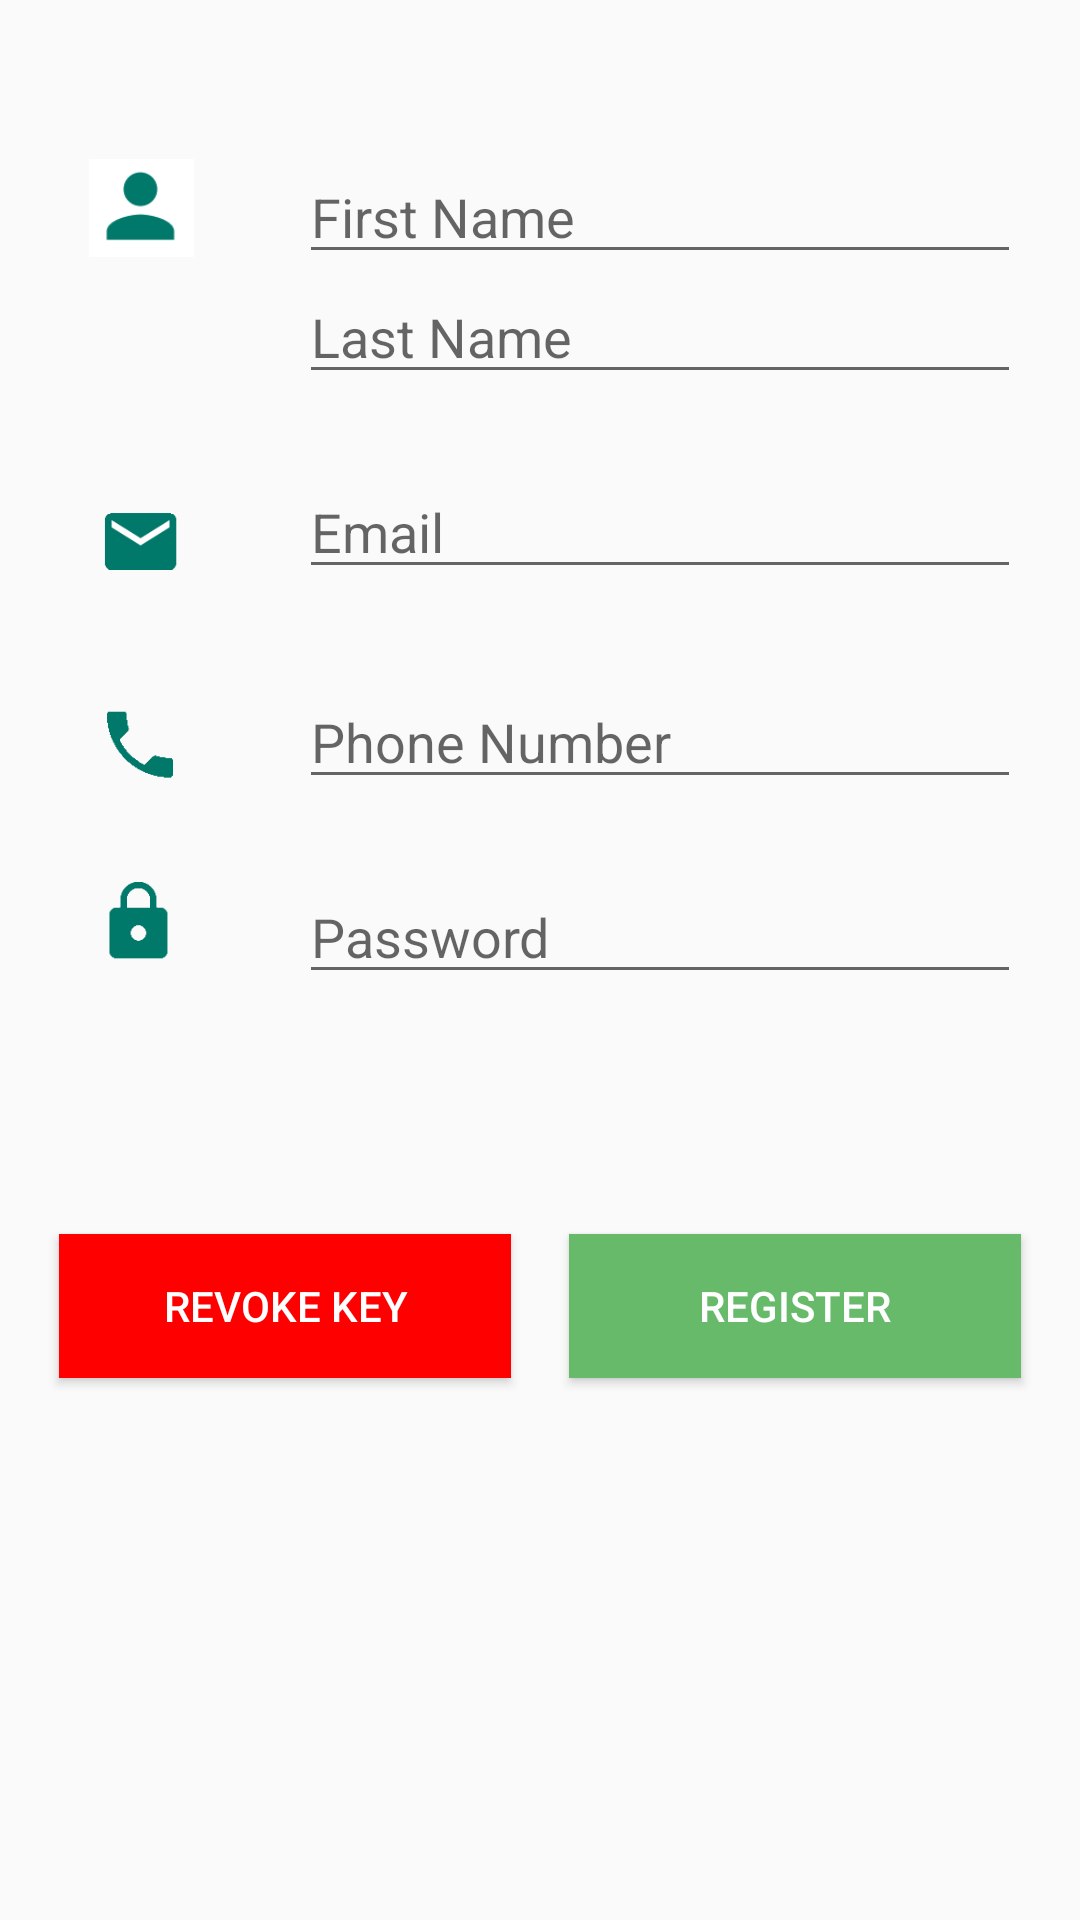

Icons on this 1080*1920 Android screen, each with its box as rect(x1, y1, x2, y2):
lock: rect(109, 882, 168, 959)
person: rect(106, 171, 175, 241)
